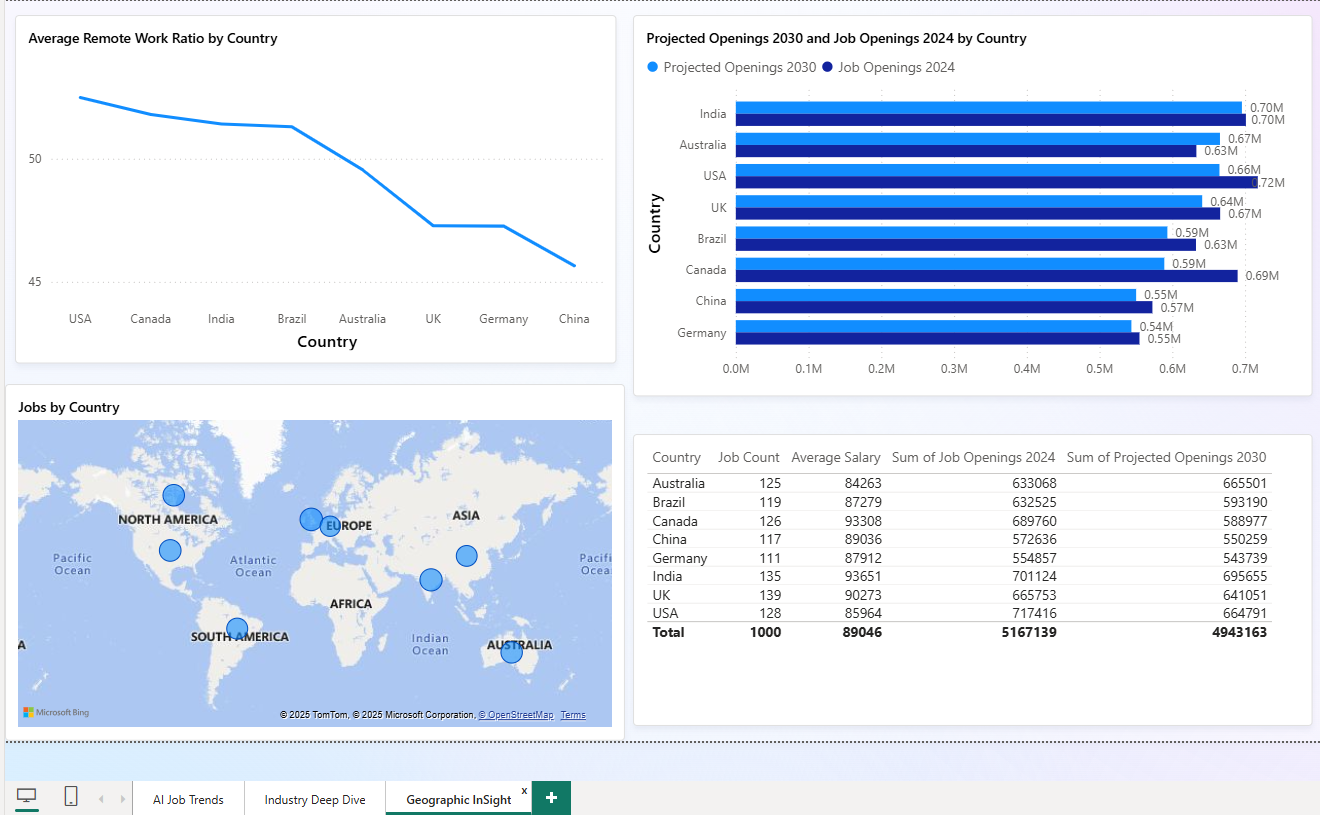

The dashboard page shown, as its layout file describes it:
{"tool":"powerbi","page":{"name":"Geographic  InSight","canvas":[1280,720],"ordinal":2},"visuals":[{"type":"map","fields":{"Category":["sample_ai_job_trends_dataset.Location"],"Size":["sample_ai_job_trends_dataset.Job Count"]},"box":[0,372.5,603,347.2],"z":0},{"type":"clusteredBarChart","fields":{"Category":["sample_ai_job_trends_dataset.Location"],"Y":["Sum(sample_ai_job_trends_dataset.Projected Openings 2030)","Sum(sample_ai_job_trends_dataset.Job Openings 2024)"]},"box":[610.8,13.6,661.4,370.6],"z":1000},{"type":"tableEx","fields":{"Values":["sample_ai_job_trends_dataset.Country","sample_ai_job_trends_dataset.Job Count","sample_ai_job_trends_dataset.Average Salary","Sum(sample_ai_job_trends_dataset.Job Openings 2024)","Sum(sample_ai_job_trends_dataset.Projected Openings 2030)"]},"box":[610.8,421.2,661.4,284],"z":2000},{"type":"lineChart","fields":{"Category":["sample_ai_job_trends_dataset.Country"],"Y":["sample_ai_job_trends_dataset.Average Remote Work Ratio %"]},"box":[9.7,13.6,584.6,339.5],"z":3000}]}

Visuals, with their boxes on the page's 1280x720 design canvas (x1, y1, x2, y2). These are canvas units, not pixel positions in the 1320x815 screenshot, which may show the page scaled, cropped or inside an application window:
map - sample_ai_job_trends_dataset.Location x sample_ai_job_trends_dataset.Job Count: l=0, t=372, r=603, b=720
clusteredBarChart - sample_ai_job_trends_dataset.Location x Sum(sample_ai_job_trends_dataset.Projected Openings 2030): l=611, t=14, r=1272, b=384
tableEx - sample_ai_job_trends_dataset.Country x sample_ai_job_trends_dataset.Job Count: l=611, t=421, r=1272, b=705
lineChart - sample_ai_job_trends_dataset.Country x sample_ai_job_trends_dataset.Average Remote Work Ratio %: l=10, t=14, r=594, b=353
